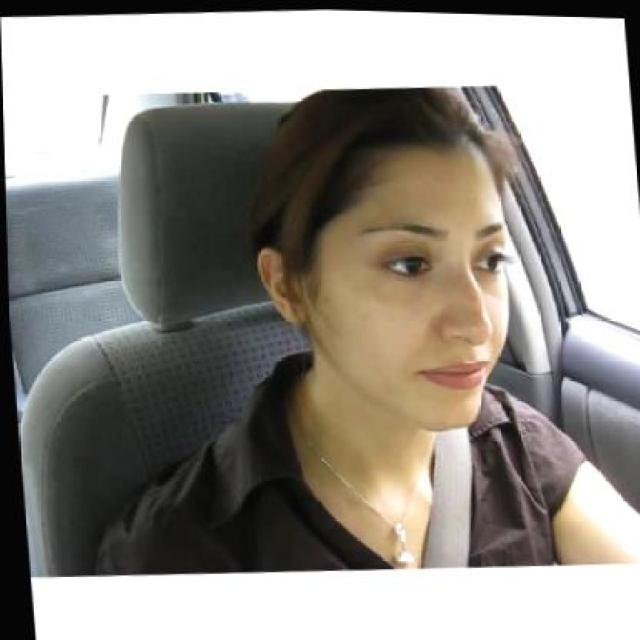attentif: (239, 76, 518, 436)
